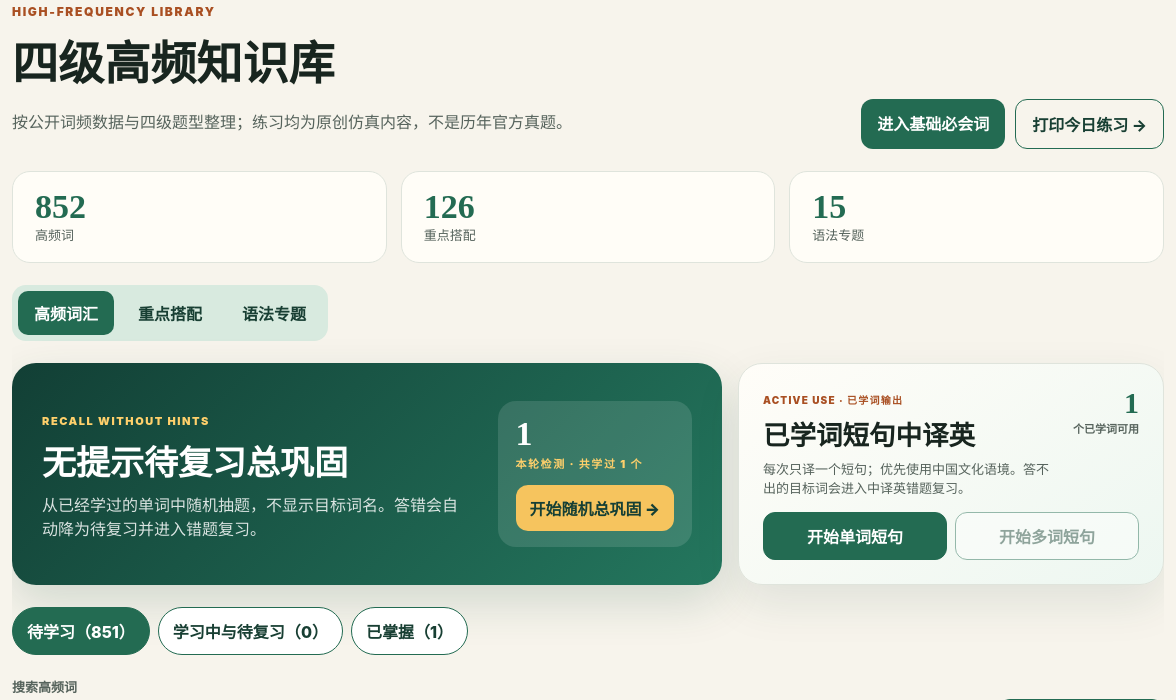
Test: KnowledgePage › adds only a missed translation target as a Chinese-to-English review card
The image size is (1176, 700).
Click the button "开始单词短句" at (855, 536), box [763, 512, 947, 560]
(page scrolled)
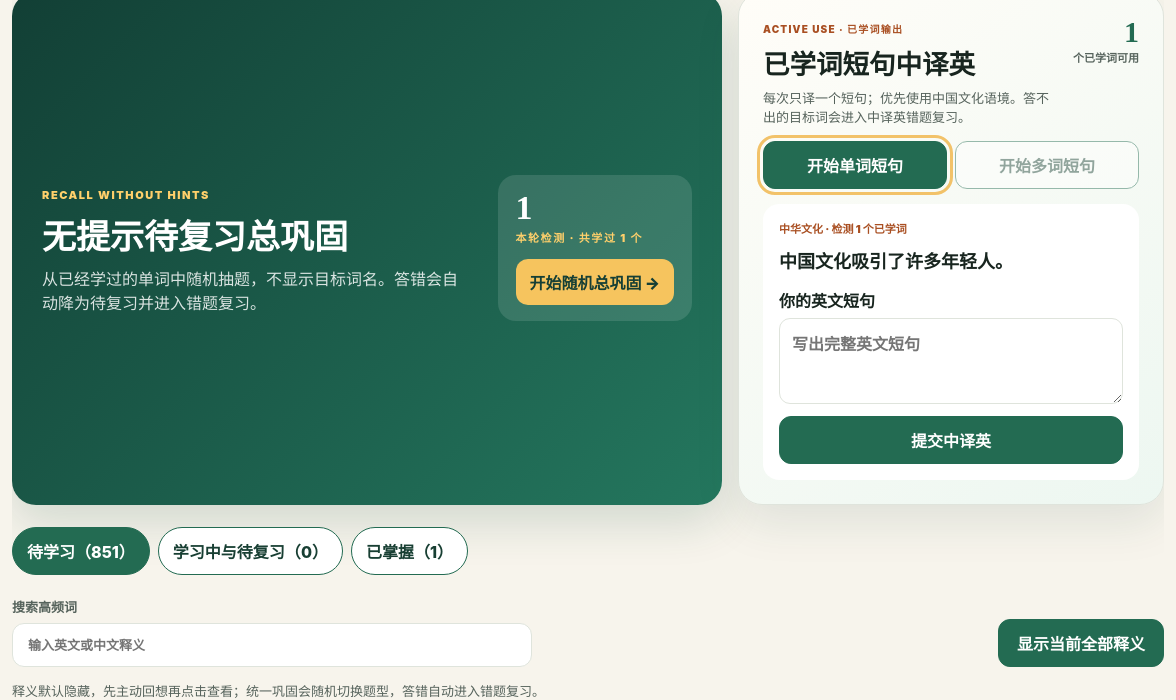
Type "I cannot answer this sentence." into the text box named "英文短句答案" at (951, 361), box [779, 318, 1123, 404]
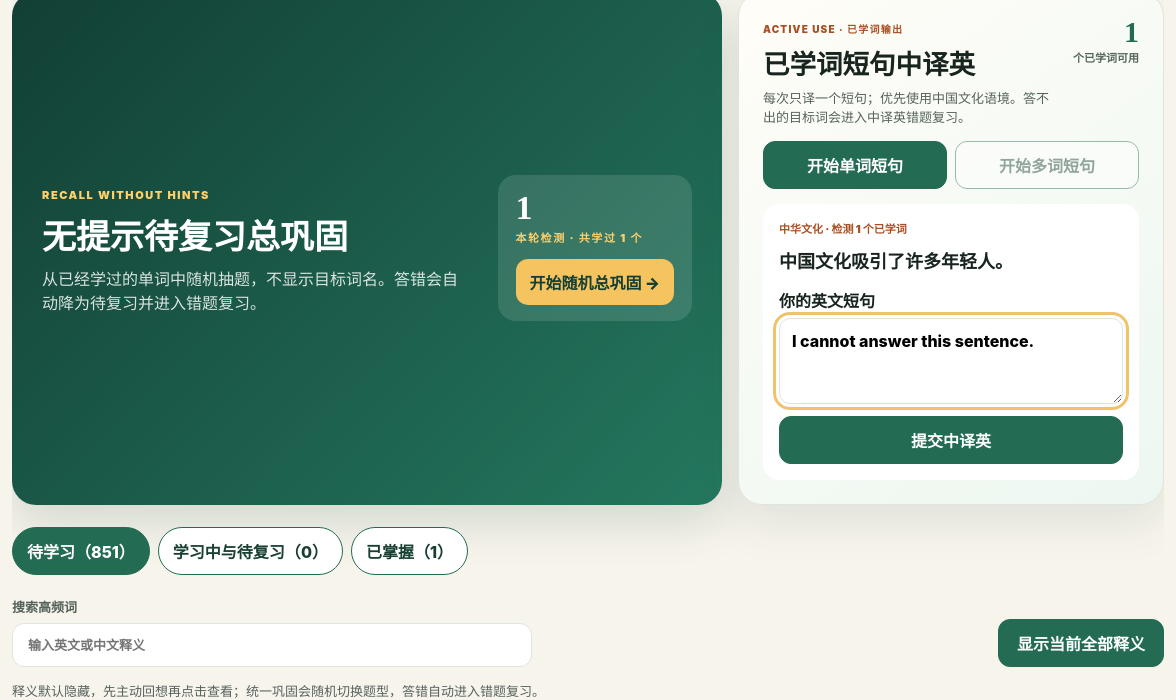
Click the button "提交中译英" at (951, 440), box [779, 416, 1123, 464]
(page scrolled)
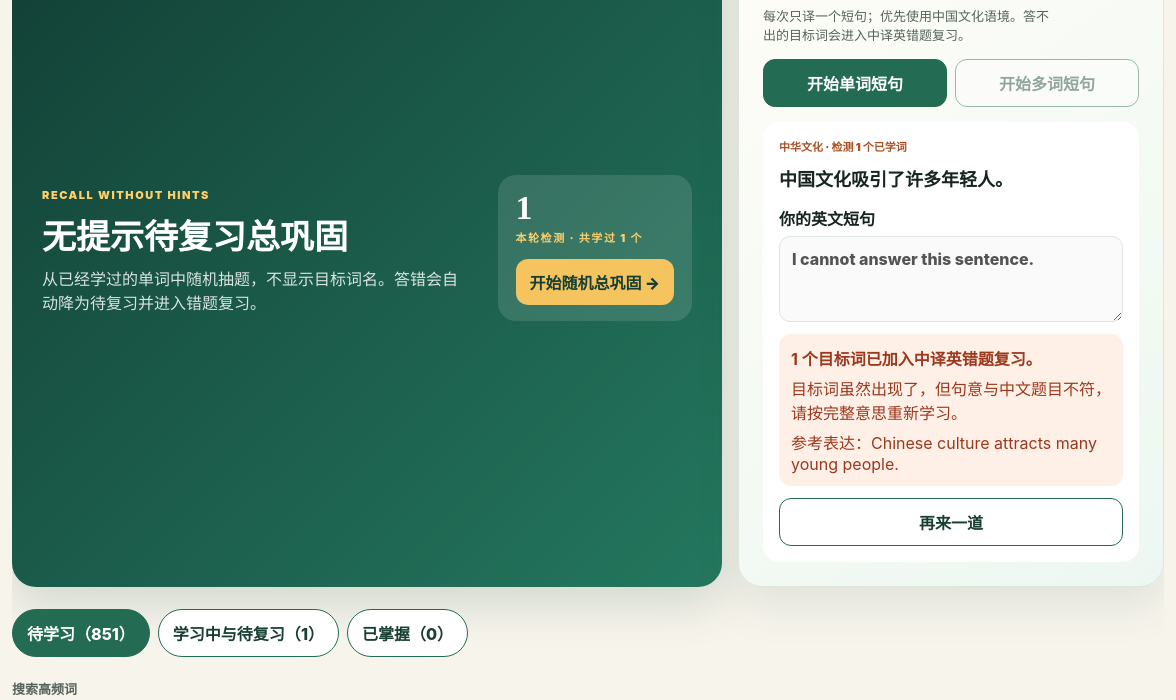
Expected: the text "1 个目标词已加入中译英错题复习。" is shown, [791, 349, 1042, 369]
